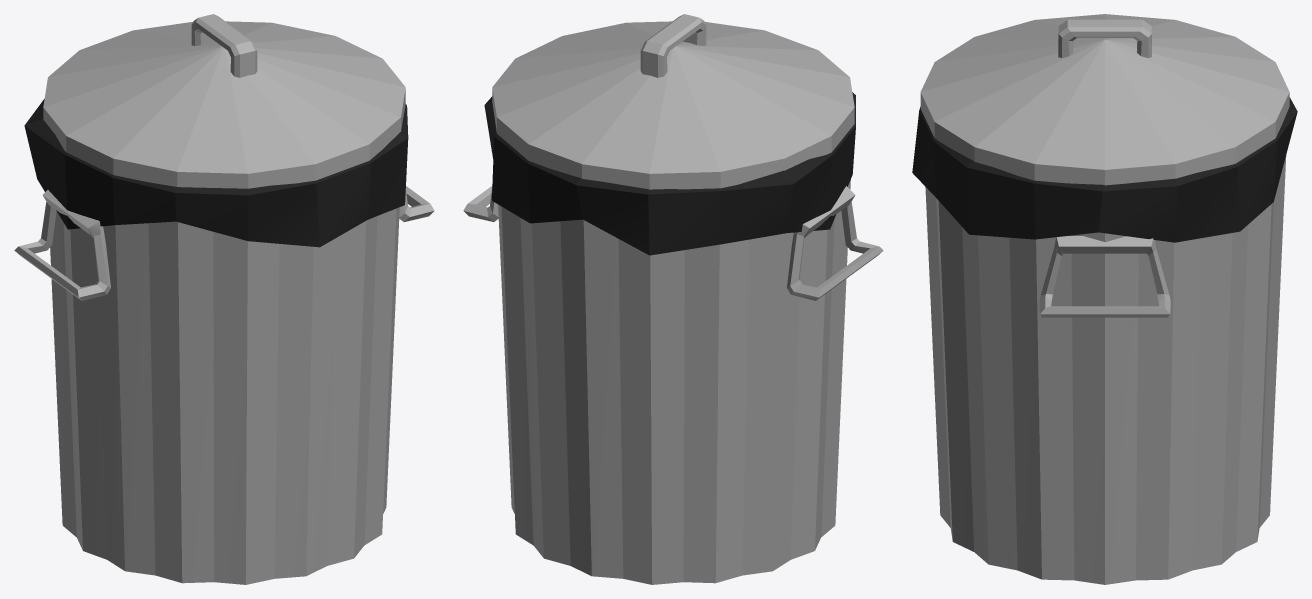
The model's file is SM_trash_bin_1.gltf.
The picture shows the model from 3 angles, left to right: view 1: azimuth 30°, elevation 25°; view 2: azimuth 150°, elevation 25°; view 3: azimuth 270°, elevation 25°; orthographic projection.
Parts seen in each view (by area): view 1: SM_trash_bin_1; view 2: SM_trash_bin_1; view 3: SM_trash_bin_1.
Part boxes in pixels (bbox=[...]): SM_trash_bin_1: bbox=[14, 14, 434, 584]; SM_trash_bin_1: bbox=[463, 14, 883, 584]; SM_trash_bin_1: bbox=[912, 14, 1297, 584].
Bounding box in the file's own units: 0.941 × 1.23 × 0.8739.
1 material, 1 textured.
